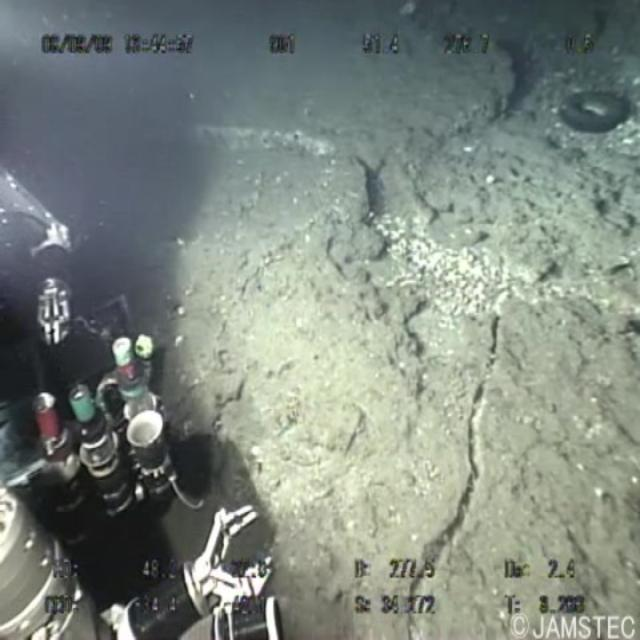Rubber: (551, 74, 640, 156)
